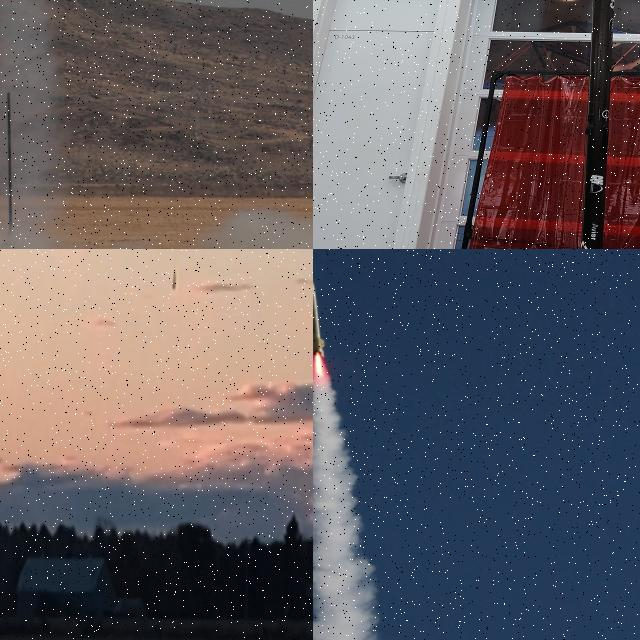Rocket: (581, 0, 615, 249), (313, 273, 325, 358), (171, 271, 177, 291)
